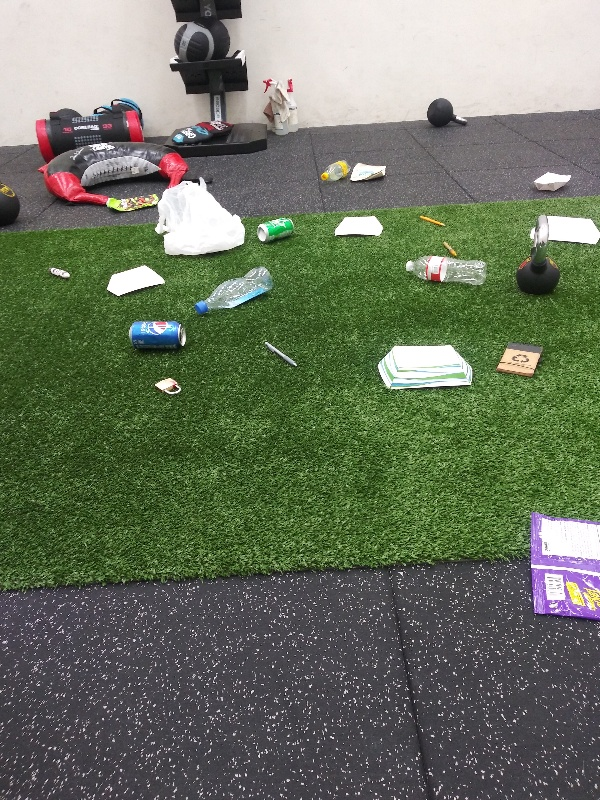bag: (516, 503, 600, 631), (102, 192, 163, 215), (348, 159, 392, 187)
bottle: (191, 263, 275, 316), (400, 252, 490, 289), (314, 158, 355, 185)
can: (125, 316, 189, 354), (253, 213, 300, 246)
plate: (372, 341, 477, 394), (529, 201, 599, 245), (103, 261, 169, 300), (331, 214, 386, 237), (528, 168, 576, 190)
